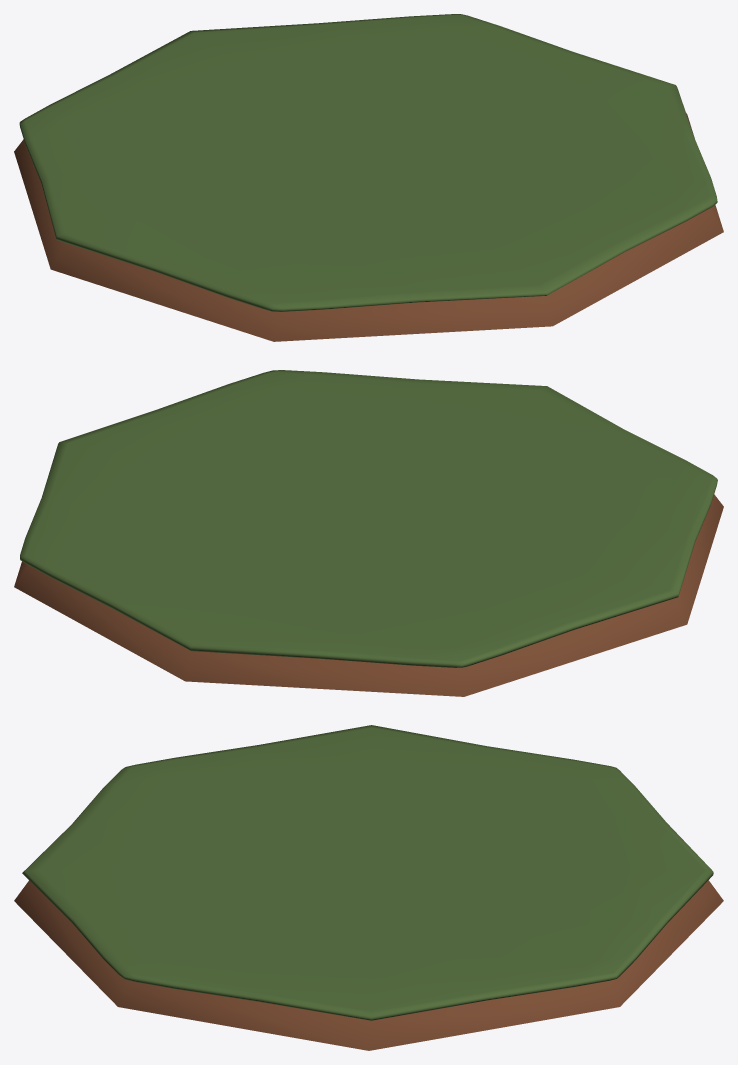
Rendered from enviroment2 (1).fbx.
3 views of the same model, one above another, from view 1: azimuth 30°, elevation 25°; view 2: azimuth 150°, elevation 25°; view 3: azimuth 270°, elevation 25° (orthographic). The views are drawn at different scales.
Visible parts, largest first — view 1: env_piece2; view 2: env_piece2; view 3: env_piece2.
Part boxes in pixels (x1,y1,x2,y2): env_piece2: (14, 14, 723, 341); env_piece2: (14, 370, 723, 696); env_piece2: (14, 725, 723, 1050).
Size of the model in its own units: 2002 by 95.17 by 2002.
